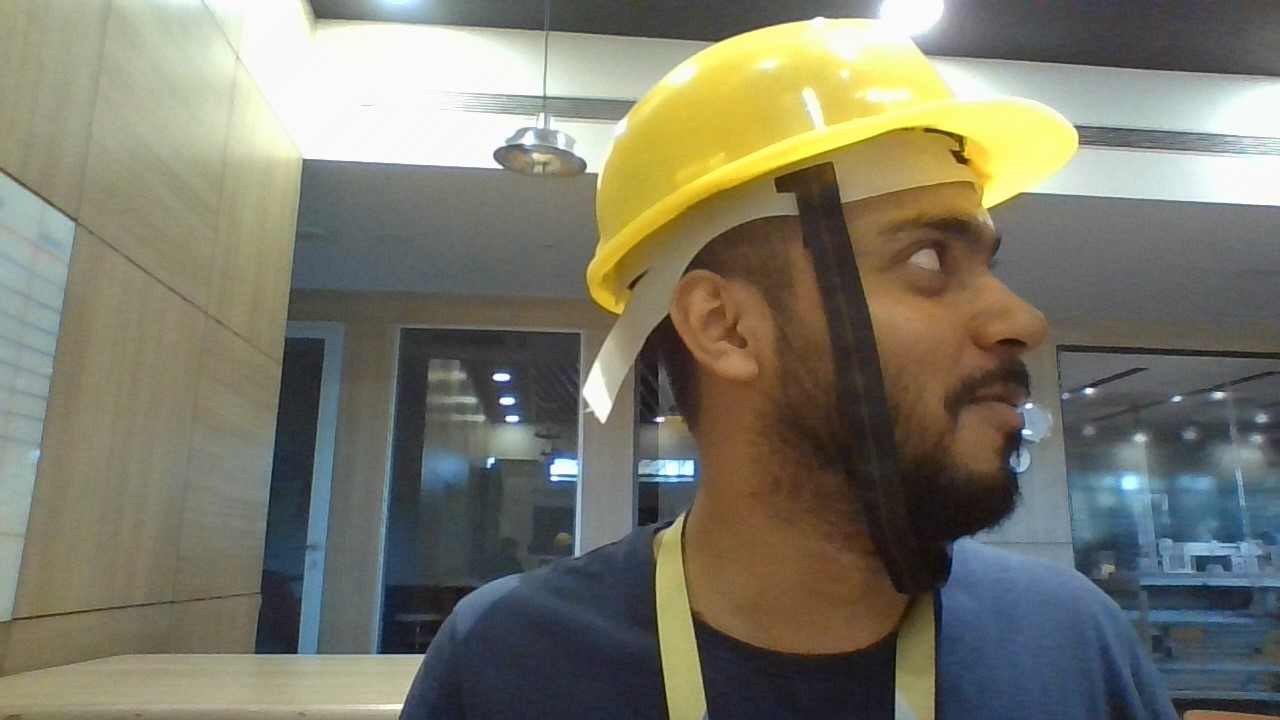Person_wearing_helmet: (554, 10, 1091, 355)
